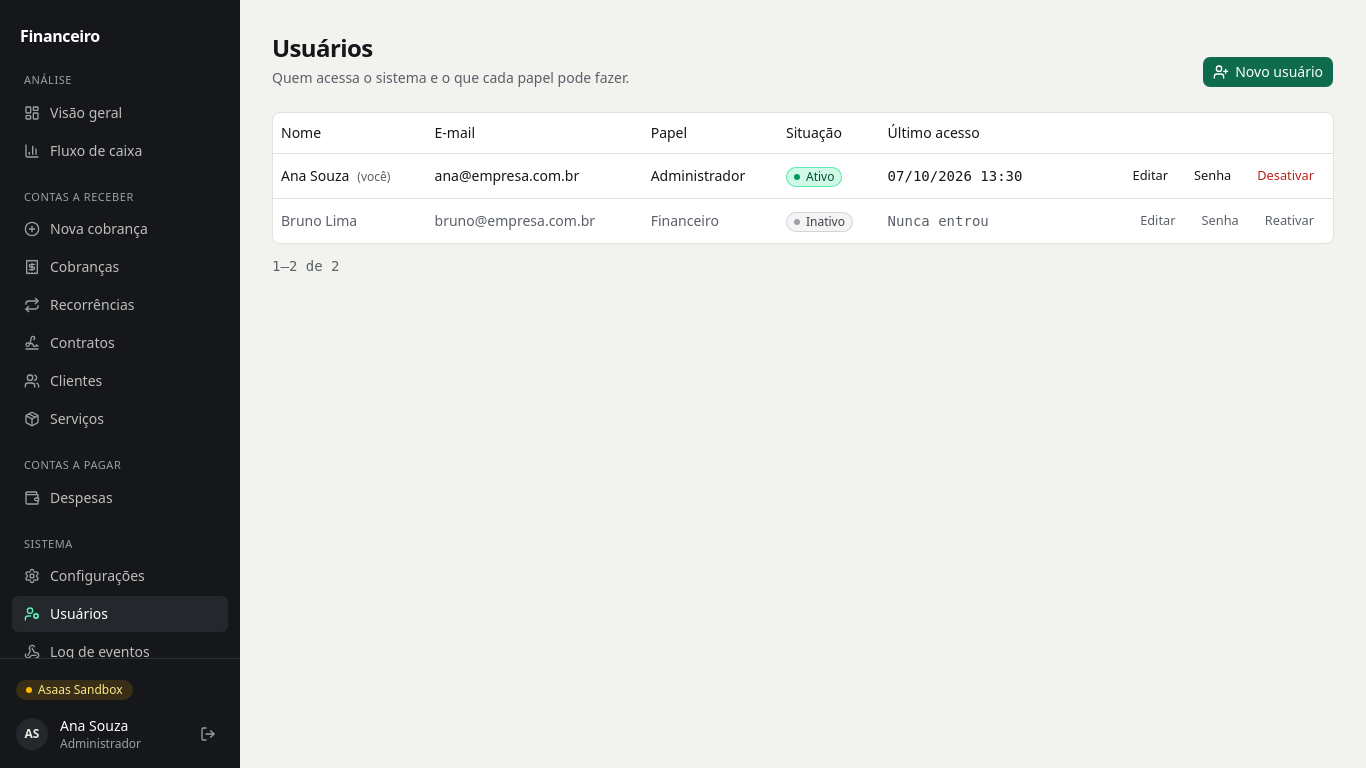
Test: [FND-03.1] Usuários › redefine a senha
This screenshot has width=1366, height=768.
Expected: the text "Bruno Lima" is shown, [273, 198, 427, 242]
Click the button with aria-label "Redefinir senha de Bruno Lima": coordinates (1220, 220) [1190, 206, 1250, 234]
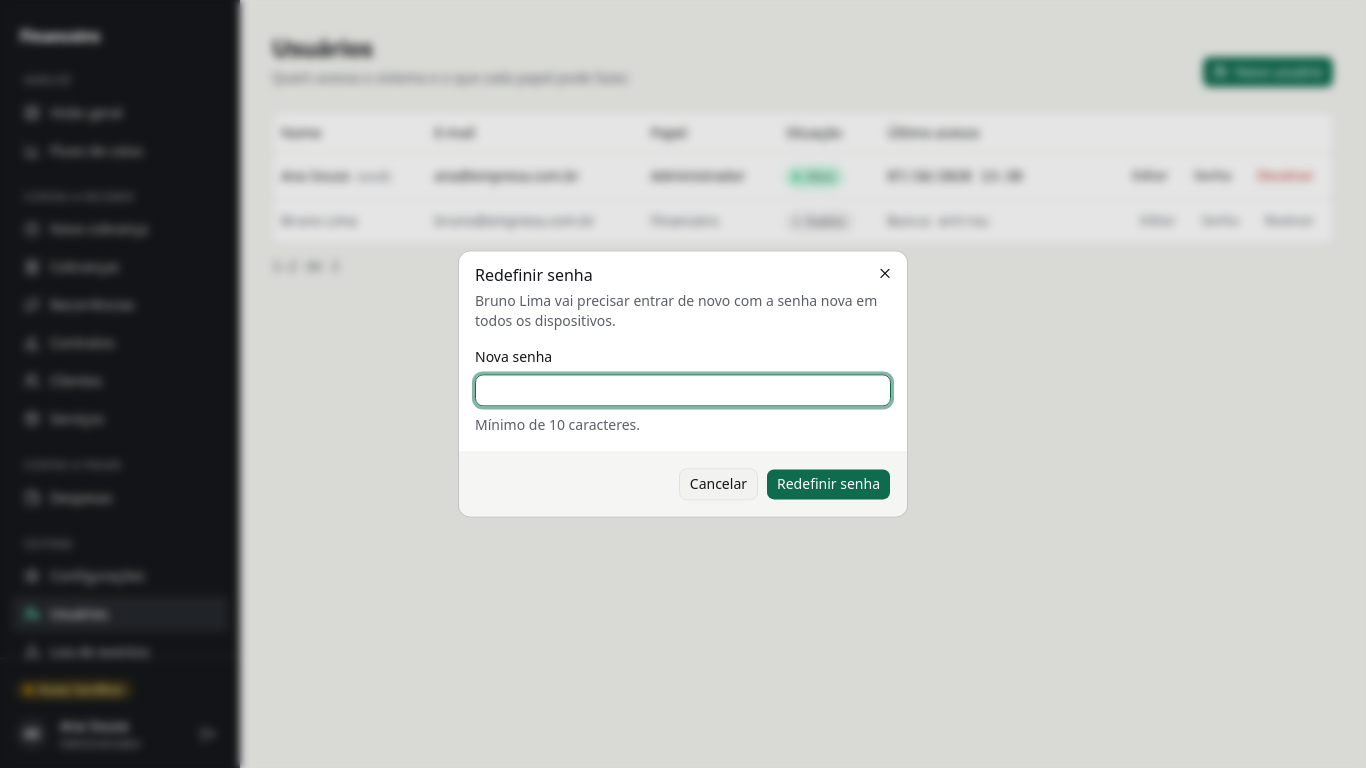
In the password field labelled "Nova senha": coordinates (683, 391) [475, 375, 891, 407], type "nova-senha-123"
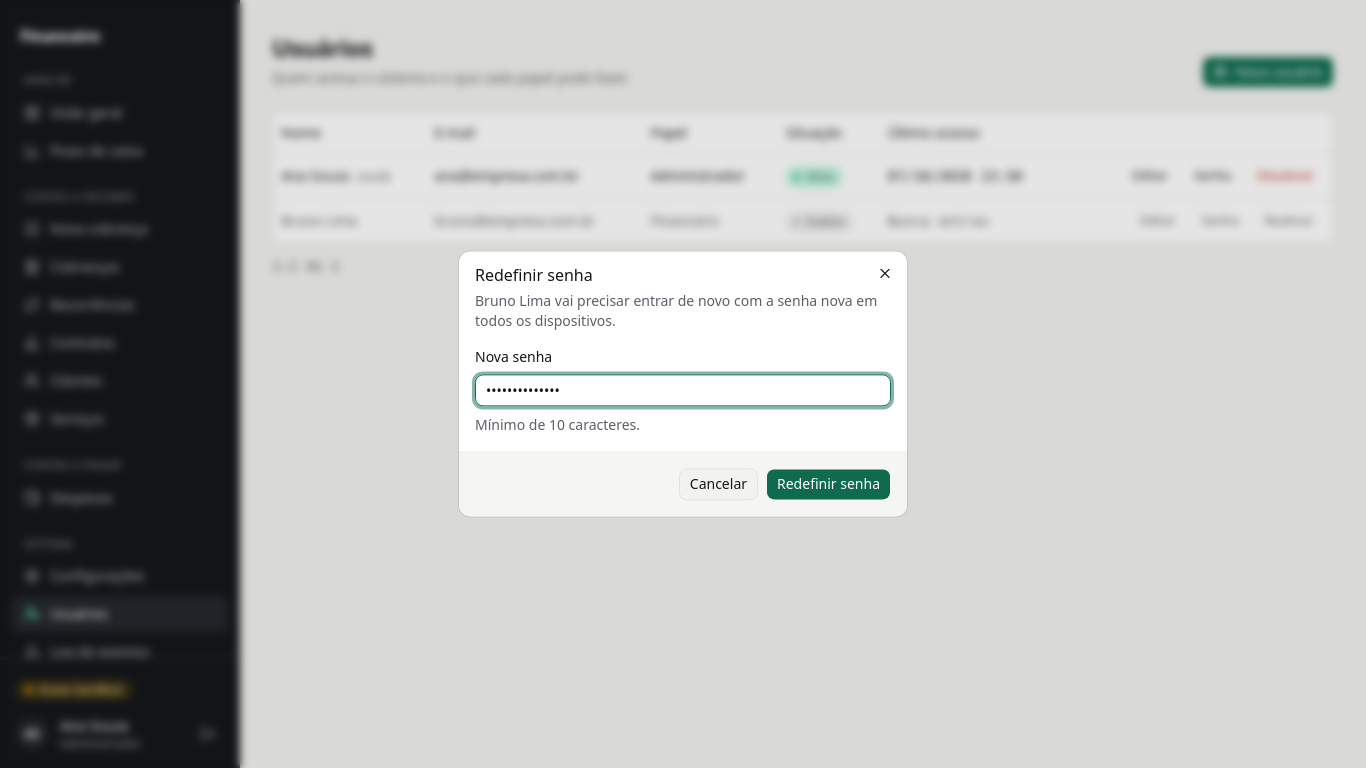
Click the button "Redefinir senha": coordinates (828, 485) [766, 469, 891, 501]
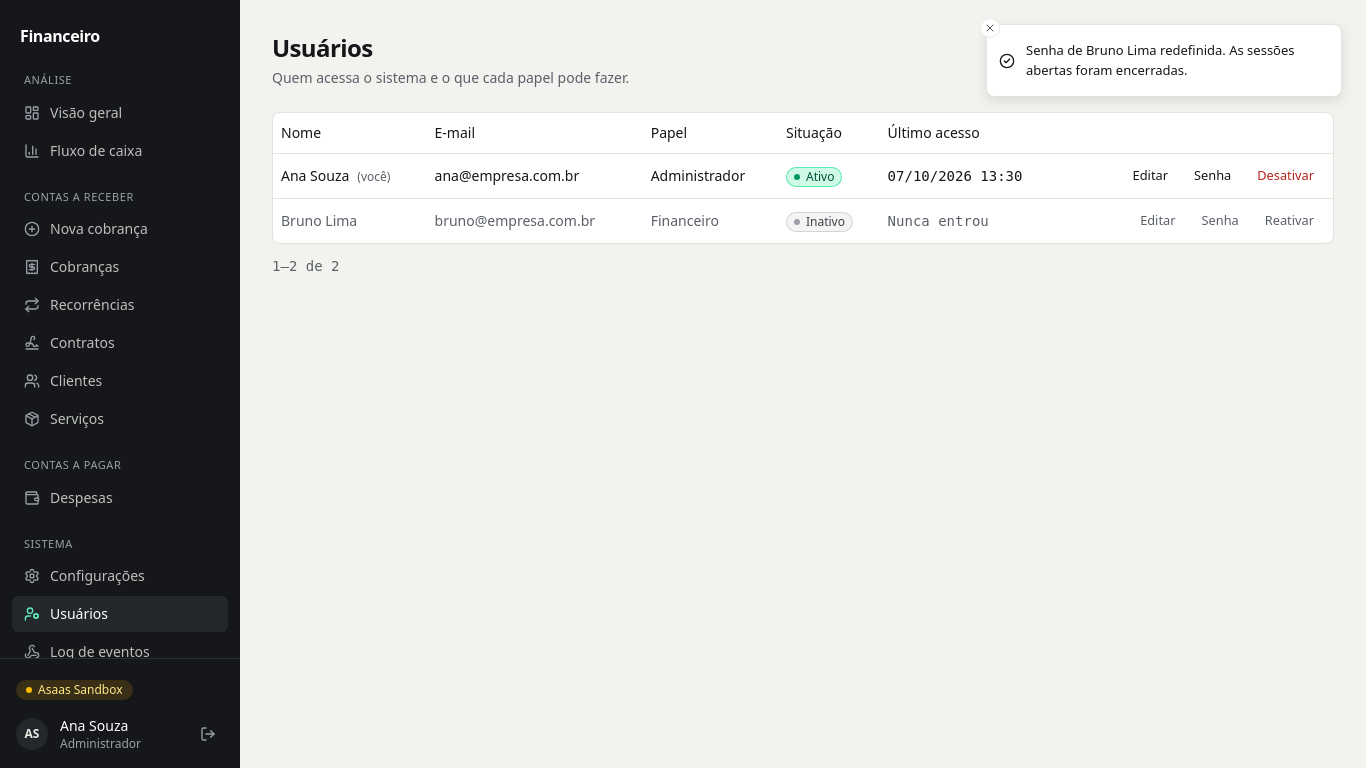
Now the text "Senha de Bruno Lima redefinida" is shown, box [1026, 41, 1294, 78]
